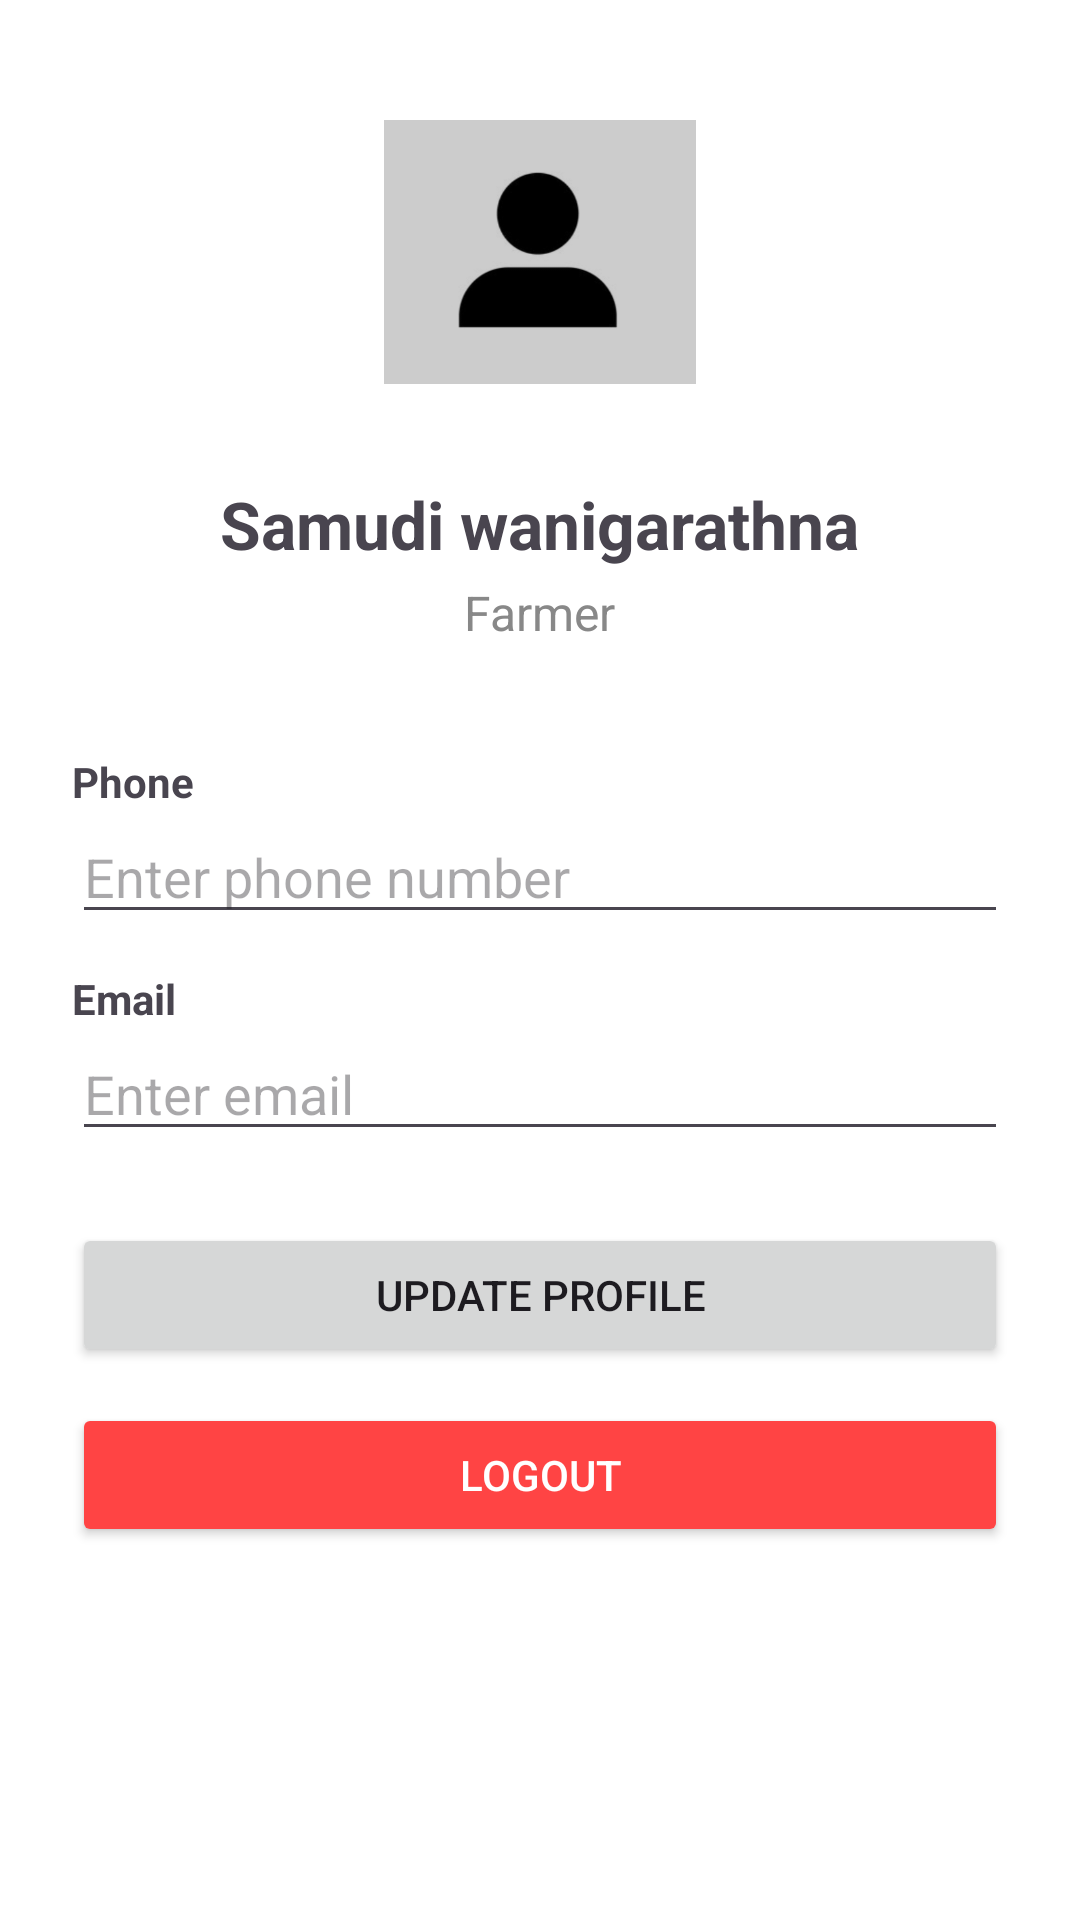

Where icons sit on this 1080 × 1920 app screen, as {"left": x1, "top": y1, "right": x2, "bottom": y2}:
Profile Picture: {"left": 384, "top": 120, "right": 696, "bottom": 384}
